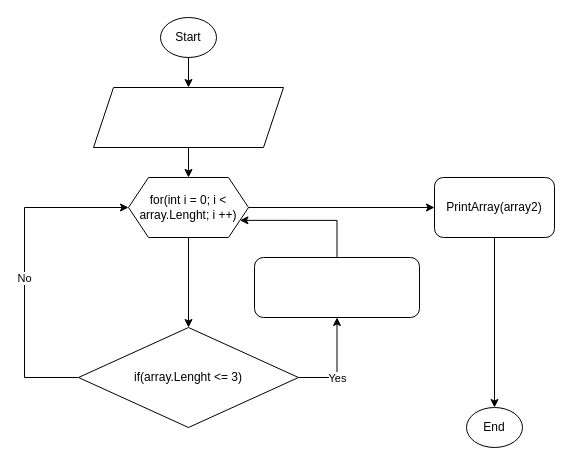
The diagram is 572 pixels wide and 465 high, and some of its shapes have lost their labels. The shapes that lost their labels are listed below. From the top down, each one's box as (x1, y1, x2, y2) in pixels, then its label:
(92, 86, 284, 148): string[] array1 string[] array2 int count = 0
(254, 256, 420, 318): array2[count] = array1[i] count ++
